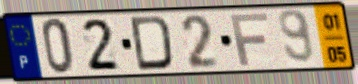0: (41, 16, 78, 76)
2: (179, 13, 221, 71), (79, 17, 120, 73)
9: (279, 8, 318, 69)
D: (128, 14, 176, 73)
F: (228, 11, 271, 67)
